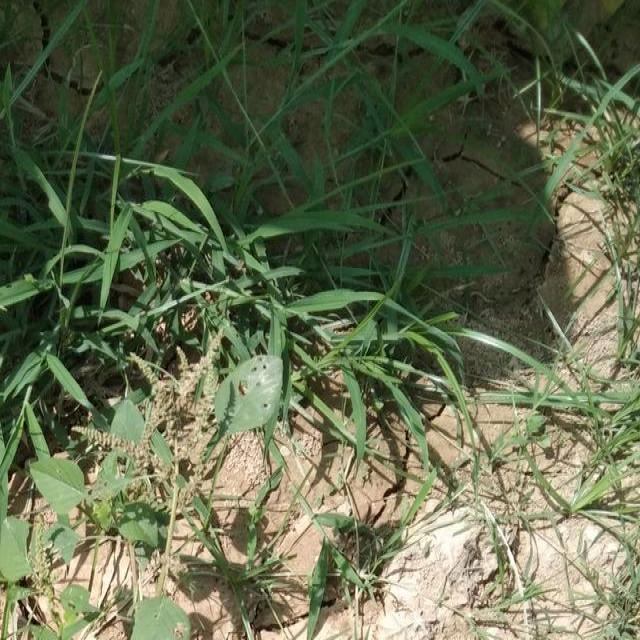weed: (26, 195, 489, 344), (13, 411, 174, 578)
